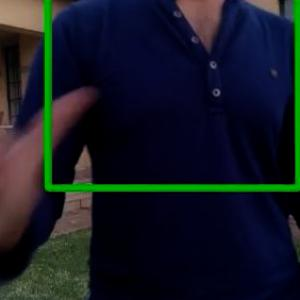land_hand: (0, 60, 106, 258)
